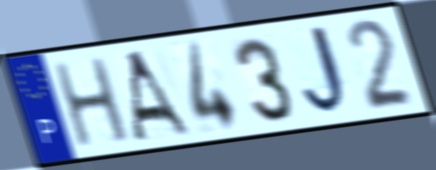2: (345, 17, 417, 113)
3: (232, 34, 296, 124)
4: (187, 38, 239, 135)
A: (128, 48, 194, 143)
H: (50, 54, 134, 151)
J: (301, 22, 357, 120)
